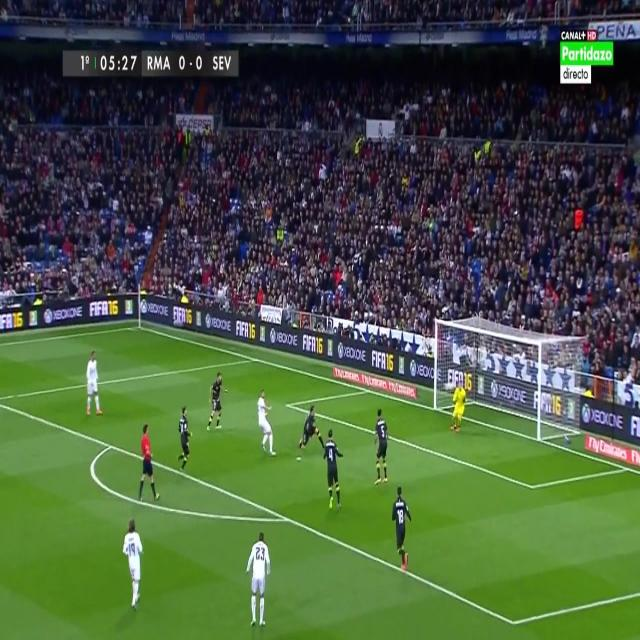Goalkeeper: (450, 376, 468, 437)
Player: (245, 528, 274, 632), (123, 516, 144, 616), (391, 485, 413, 579), (324, 428, 346, 513), (256, 387, 279, 462), (372, 406, 391, 489), (204, 369, 228, 434), (85, 350, 105, 425), (297, 405, 325, 456), (176, 400, 194, 474)
Referee: (136, 422, 159, 504)
